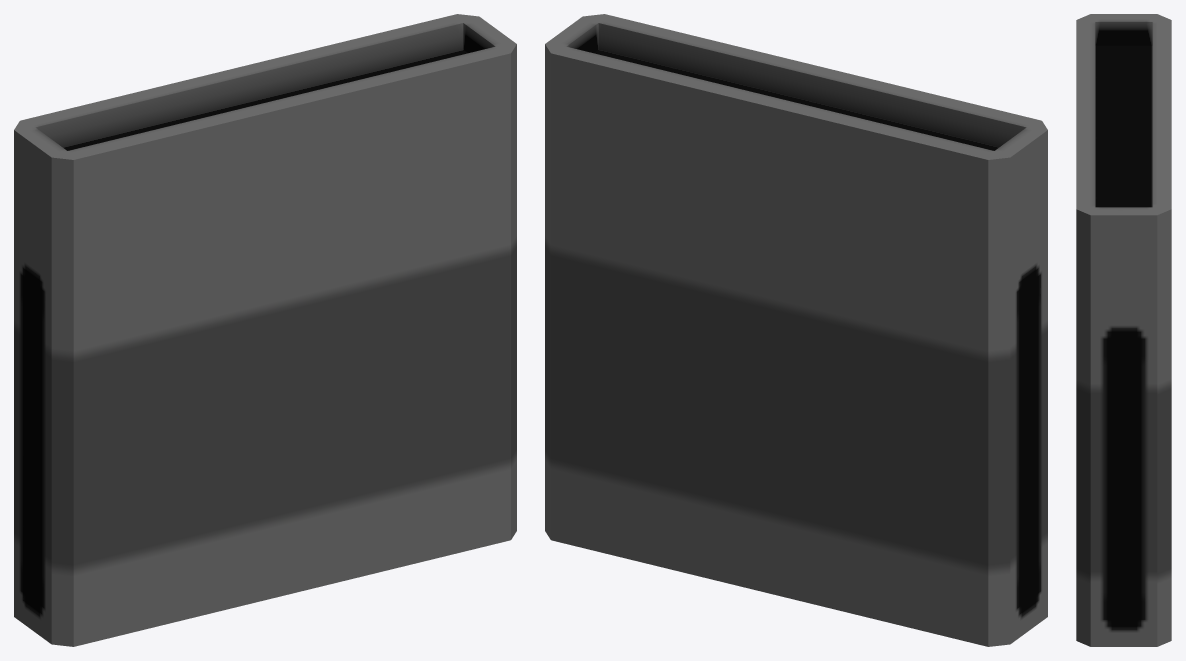
File: wall_single_two_straight1.fbx
3 views of the same model, side by side, from view 1: azimuth 30°, elevation 25°; view 2: azimuth 150°, elevation 25°; view 3: azimuth 270°, elevation 25° (orthographic). The views are drawn at different scales.
Visible parts, largest first — view 1: wall_single_two_straight1; view 2: wall_single_two_straight1; view 3: wall_single_two_straight1.
Boxes of the visible parts, x1,y1,x2,y2 form: wall_single_two_straight1: (14, 14, 516, 646); wall_single_two_straight1: (545, 14, 1047, 646); wall_single_two_straight1: (1076, 14, 1171, 646).
Bounding box in the file's own units: 1 × 1 × 0.2.
1 material, 1 textured.
